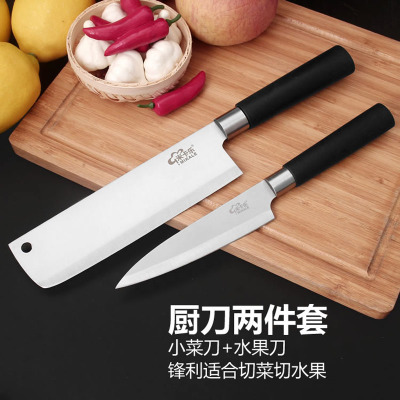knief: (4, 54, 380, 299)
